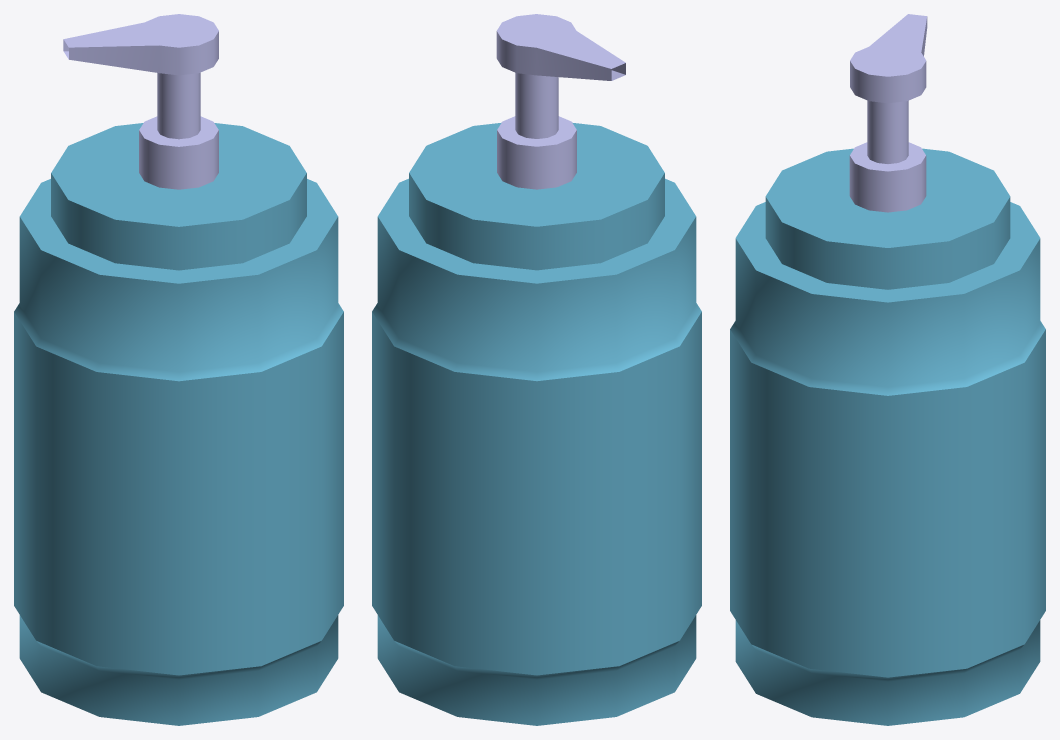
Rendered from Shampoo6.fbx.
3 views of the same model, side by side, from view 1: azimuth 30°, elevation 25°; view 2: azimuth 150°, elevation 25°; view 3: azimuth 270°, elevation 25° (orthographic). The views are drawn at different scales.
Visible parts, largest first — view 1: Shampoo6; view 2: Shampoo6; view 3: Shampoo6.
Boxes of the visible parts, box(x1,y1,x2,y2) form: Shampoo6: box(14, 14, 343, 725); Shampoo6: box(372, 14, 701, 725); Shampoo6: box(730, 14, 1045, 725).
Size of the model in its own units: 15.32 by 15.32 by 32.17.
